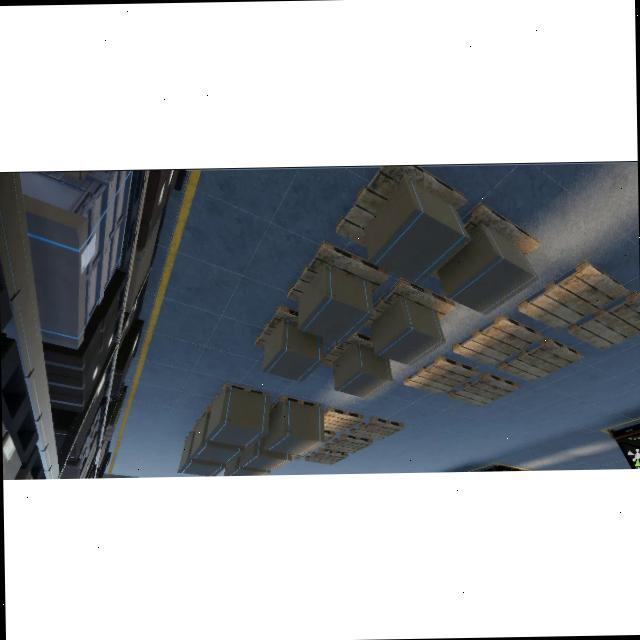wooden_pallet: (516, 261, 629, 330), (287, 240, 390, 299), (453, 314, 542, 366), (362, 278, 455, 327), (461, 202, 540, 257), (497, 337, 583, 383), (403, 354, 478, 395), (447, 372, 519, 407), (349, 416, 405, 440)
